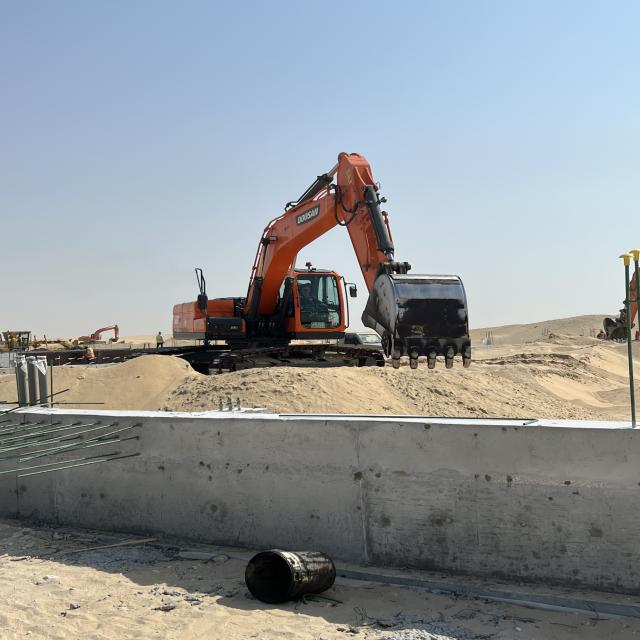excavator: (170, 151, 473, 392)
